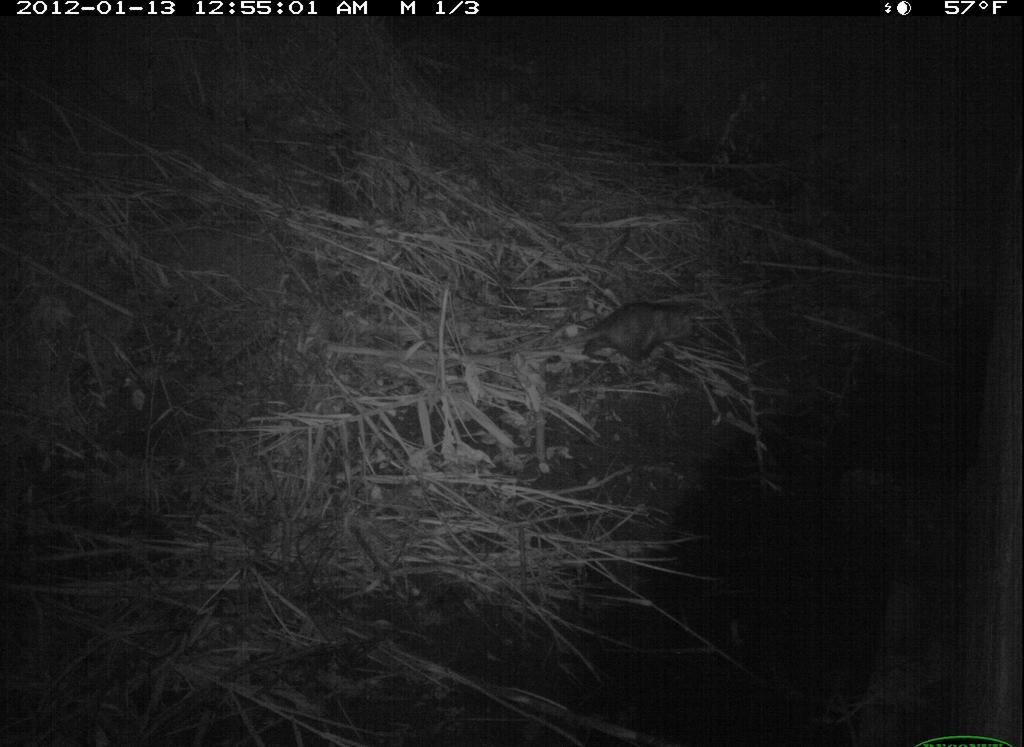opossum: (541, 296, 730, 378)
